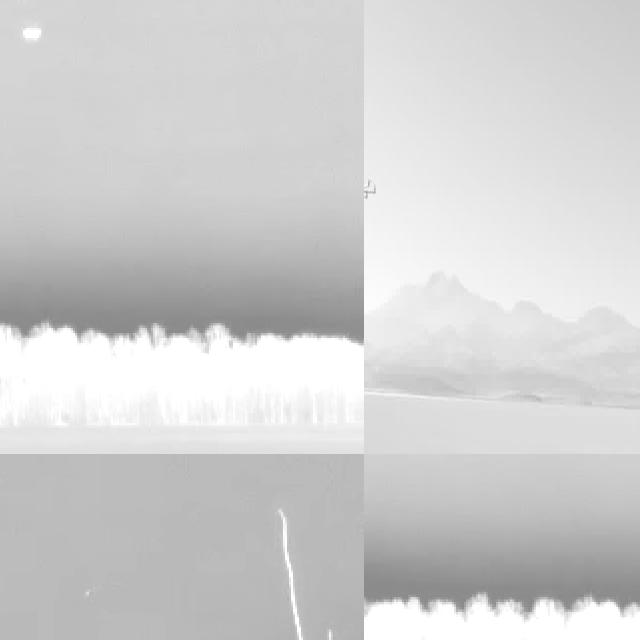0: (73, 583, 97, 611)
1: (11, 22, 49, 54)
drone: (364, 165, 376, 221)
